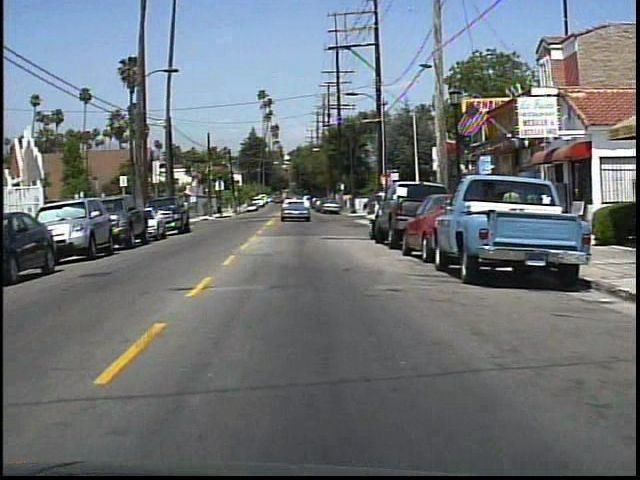person: (501, 181, 525, 234)
